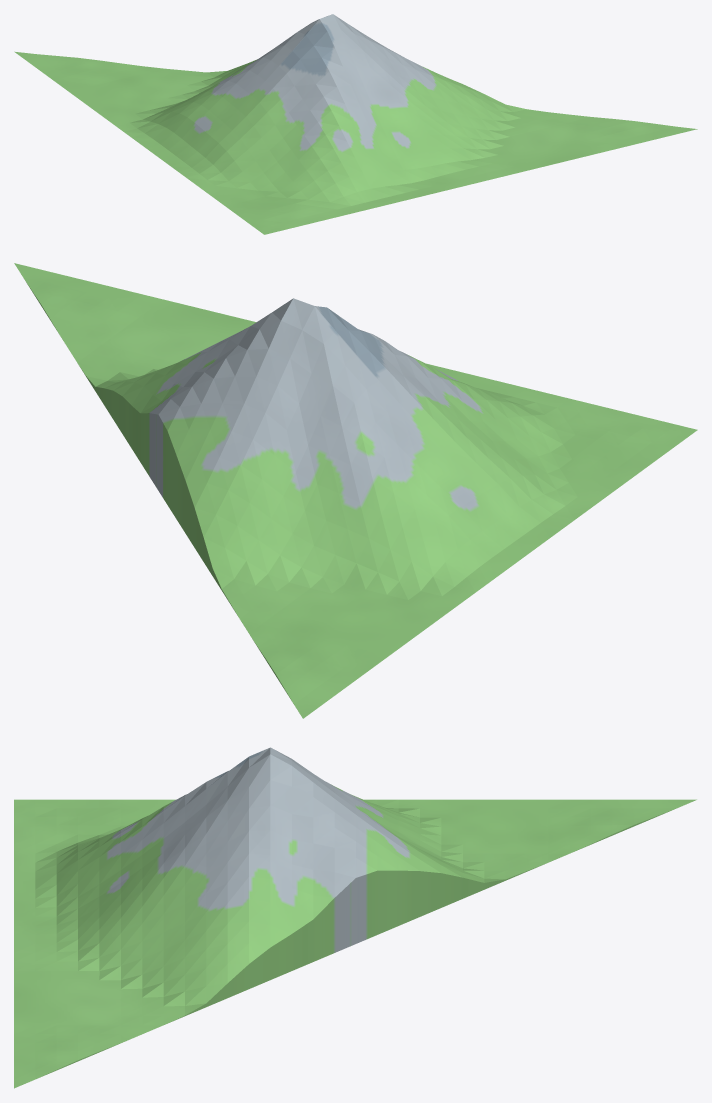
File: Grass_RockyMountains_09_NW.obj
The picture shows the model from 3 angles, top to bottom: view 1: azimuth 30°, elevation 25°; view 2: azimuth 150°, elevation 25°; view 3: azimuth 270°, elevation 25°; orthographic projection. The views are drawn at different scales.
Bounding box in the file's own units: 10 × 2.48 × 10.
1 material, 1 textured.
